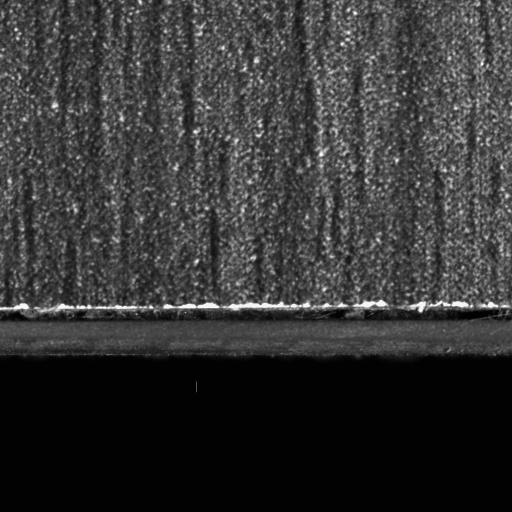kaijiao: (0, 300, 511, 366)
